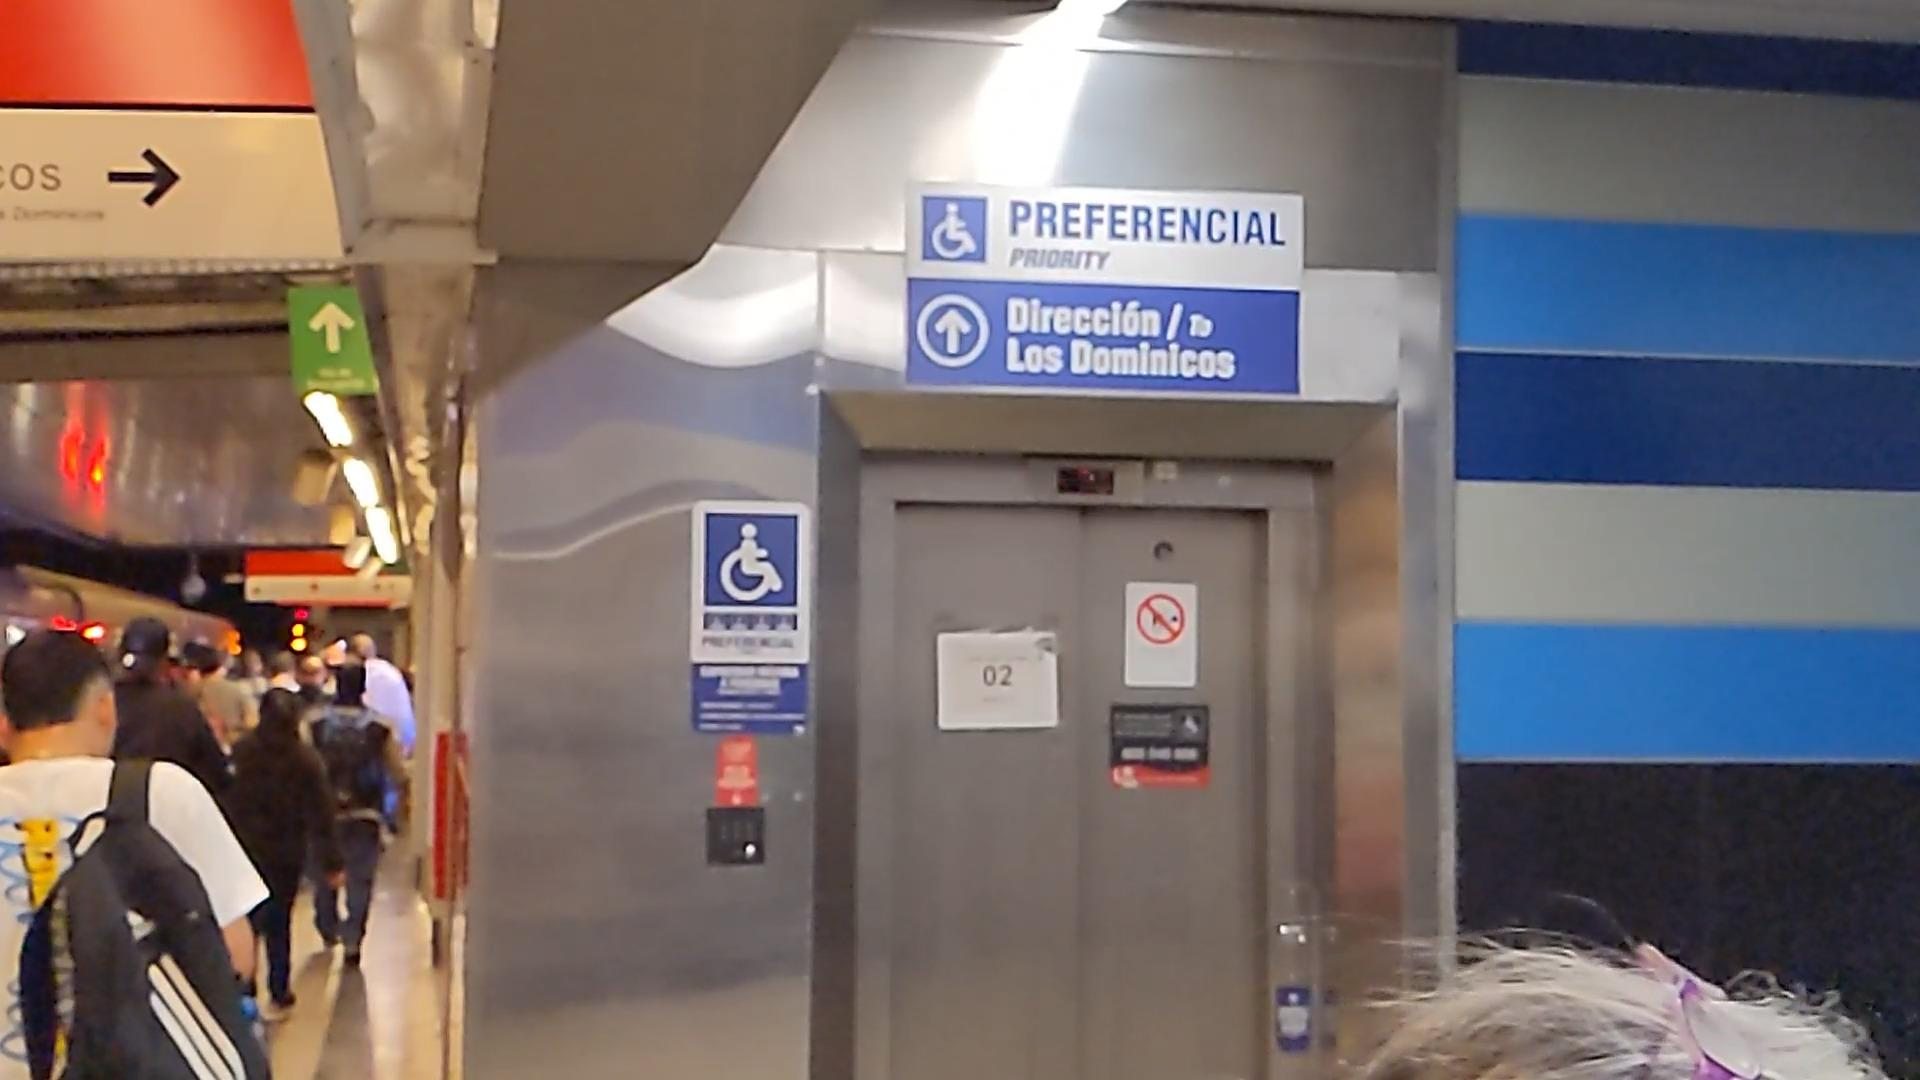emergency up arrow: (303, 295, 363, 360)
handicapped symbol: (716, 521, 785, 604), (931, 202, 978, 260)
right arrow: (99, 144, 190, 214)
up arrow: (934, 307, 975, 356)
